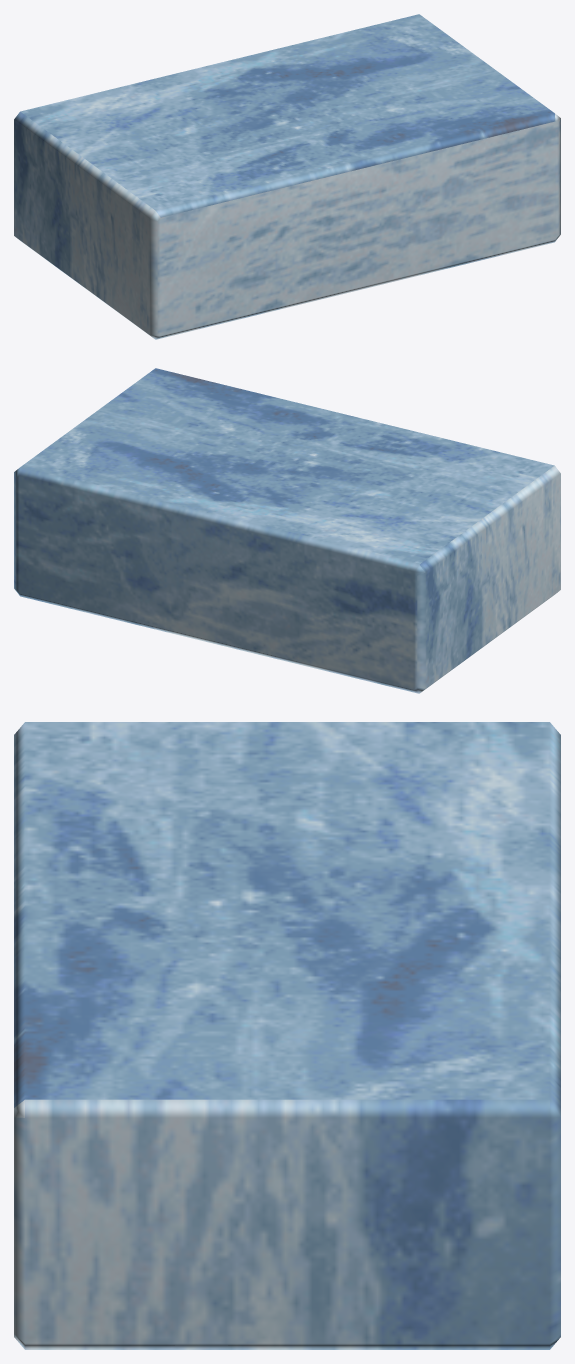
The model's file is Ice_cubes.fbx.
3 views of the same model, one above another, from view 1: azimuth 30°, elevation 25°; view 2: azimuth 150°, elevation 25°; view 3: azimuth 270°, elevation 25° (orthographic). The views are drawn at different scales.
Parts seen in each view (by area): view 1: Ice_cubes; view 2: Ice_cubes; view 3: Ice_cubes.
Part boxes in pixels (left/top/right/bottom): Ice_cubes: left=14, top=14, right=560, bottom=339; Ice_cubes: left=14, top=368, right=560, bottom=693; Ice_cubes: left=14, top=722, right=560, bottom=1349.
Bounding box in the file's own units: 100 × 30 × 59.4.
